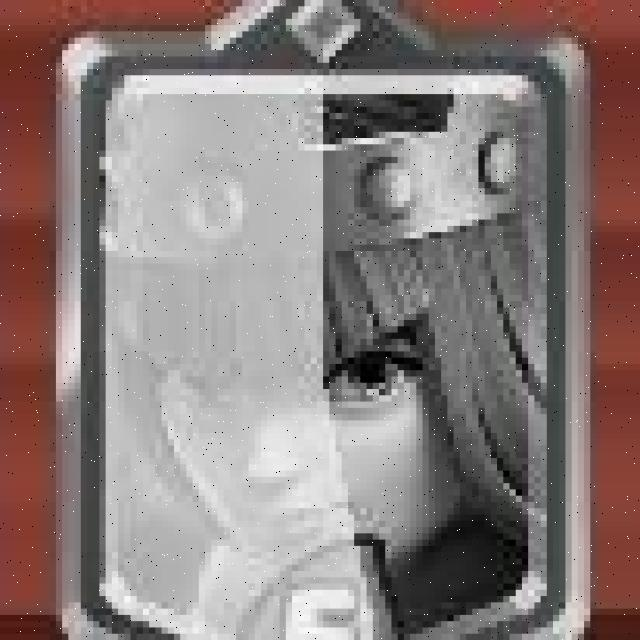Archer_Queen: (41, 0, 600, 640)
